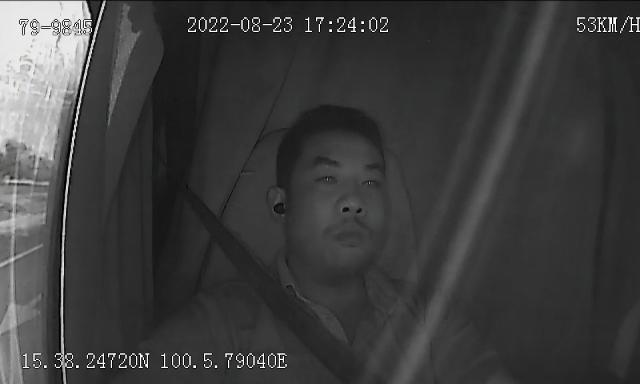SafeDriving: (311, 160, 344, 194)
Seatbelt: (187, 187, 371, 384)
